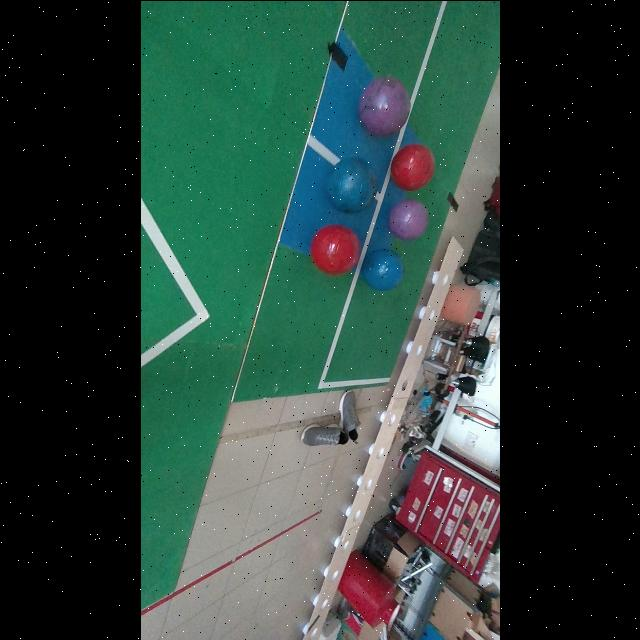B: (327, 157, 377, 214), (360, 250, 403, 291)
P: (359, 76, 411, 135), (388, 200, 429, 239)
R: (311, 225, 358, 275), (390, 143, 434, 189)
